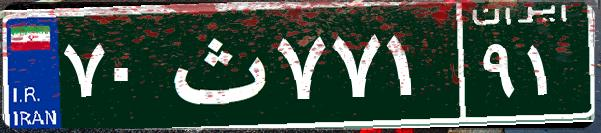0: (110, 28, 158, 105)
1: (385, 28, 445, 110), (525, 38, 570, 115)
7: (273, 28, 330, 110), (330, 28, 385, 110), (57, 26, 110, 107)
9: (475, 38, 525, 113)
ث: (158, 15, 273, 115)
